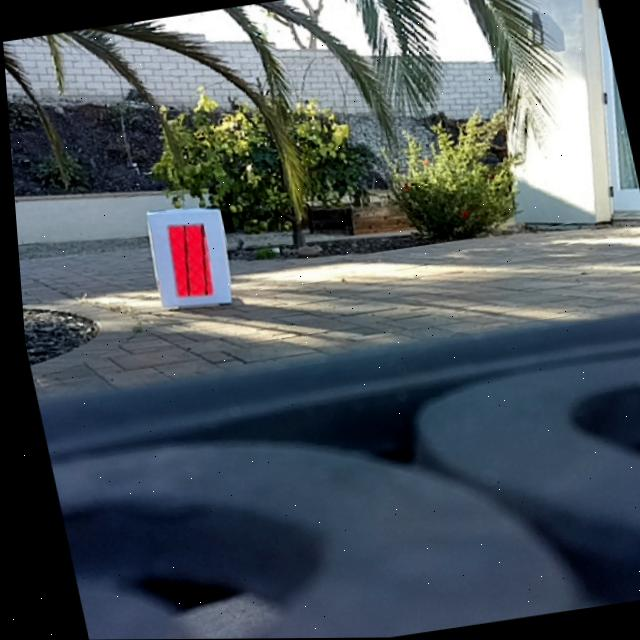led: (159, 221, 213, 300)
